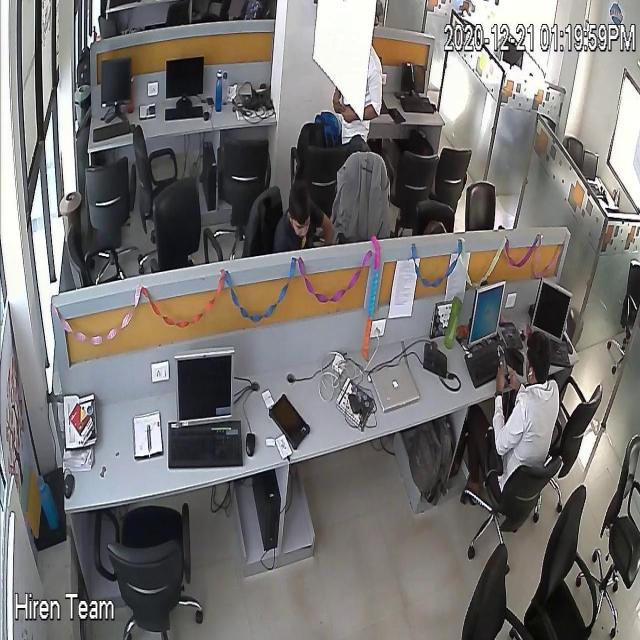chair: (89, 500, 209, 640), (531, 477, 599, 640), (461, 435, 562, 542), (76, 159, 134, 285), (145, 183, 223, 276), (459, 544, 533, 640), (606, 432, 640, 603), (214, 130, 270, 209), (283, 127, 343, 200), (558, 378, 602, 466), (388, 136, 436, 212), (131, 126, 185, 192), (609, 247, 640, 361), (242, 176, 280, 253), (460, 170, 504, 232), (408, 188, 458, 232), (438, 134, 468, 204), (563, 124, 585, 177), (95, 12, 125, 36), (164, 0, 188, 24)
keyboard: (164, 417, 244, 469), (461, 341, 499, 384), (536, 330, 570, 365), (90, 118, 132, 143), (402, 91, 434, 118), (164, 106, 204, 120)
laptop: (371, 360, 421, 415)
monitor: (172, 349, 235, 423), (529, 272, 571, 348), (163, 55, 207, 103), (471, 284, 505, 342), (100, 56, 134, 111), (398, 64, 427, 92), (583, 145, 599, 183), (504, 40, 524, 70)
person: (468, 332, 558, 502), (333, 32, 382, 153), (270, 177, 334, 251)
phone: (497, 348, 515, 393)
